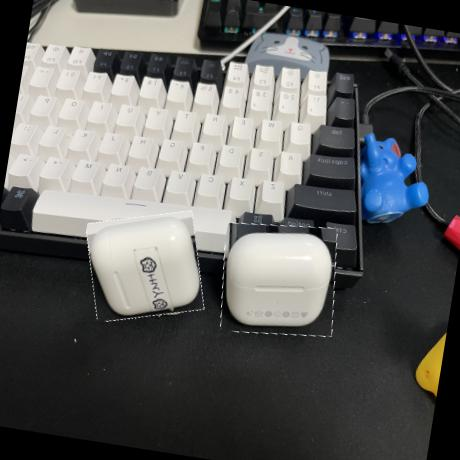airpod2: (78, 202, 212, 331)
airpod3: (213, 215, 346, 346)
